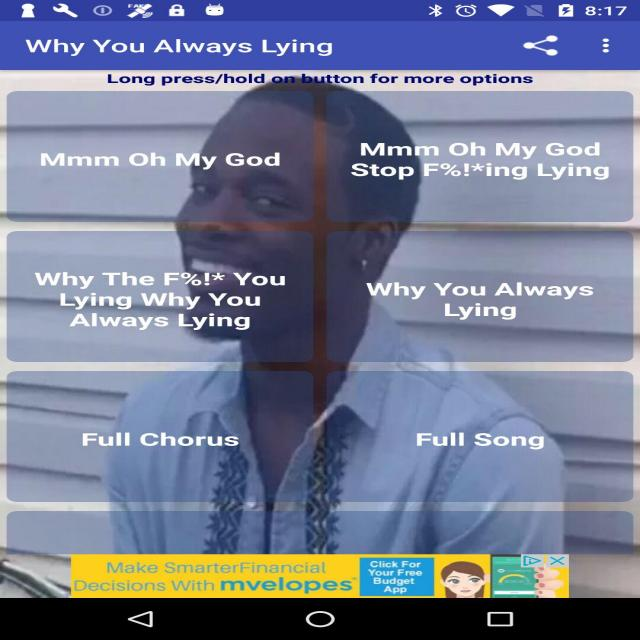text: (10, 113, 635, 460)
